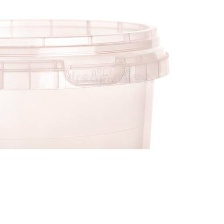plastic_box: (0, 8, 176, 149)
